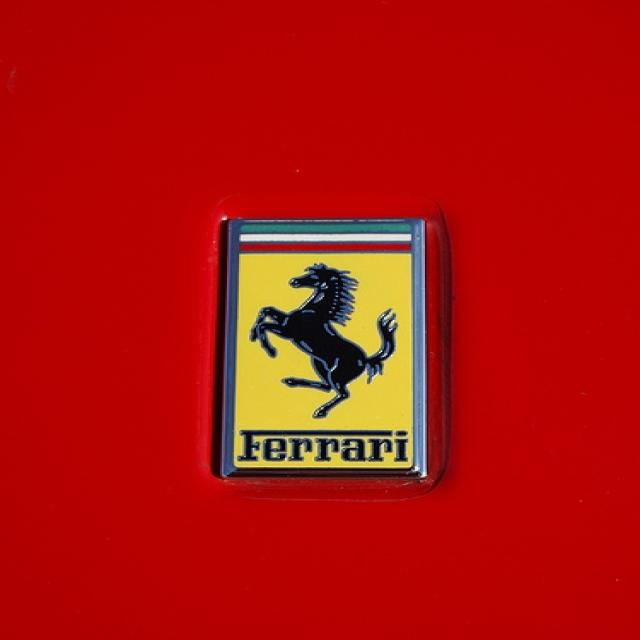ferrari: (233, 222, 416, 472)
